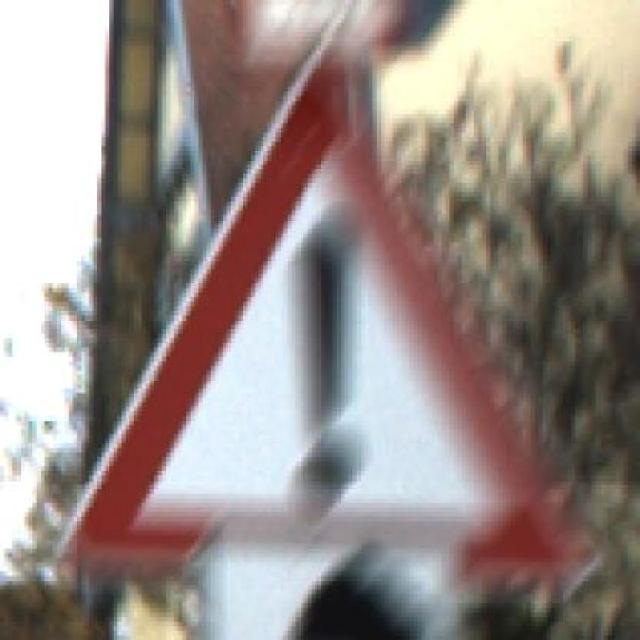Attention Please-: (48, 50, 587, 581)
